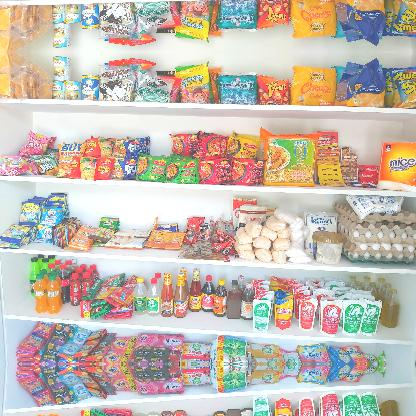Lady-s-Choice: (312, 230, 344, 264)
